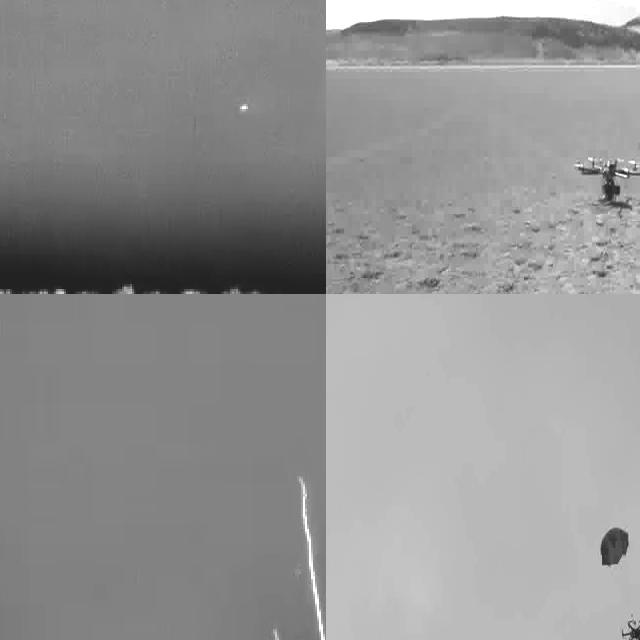0: (286, 564, 304, 582)
1: (226, 96, 254, 126)
drone: (573, 154, 640, 203), (619, 610, 640, 640)
